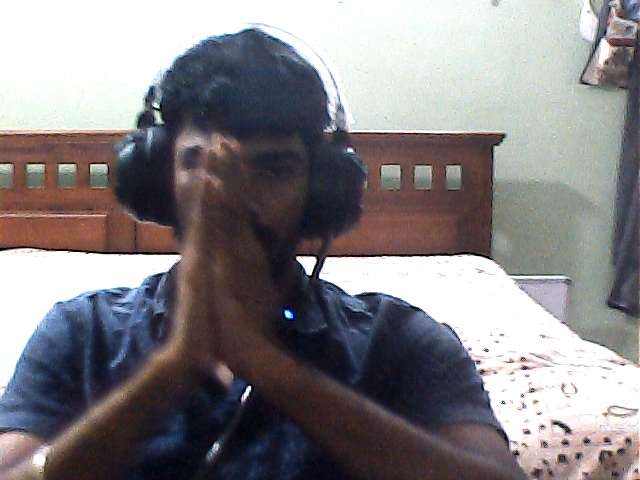Sign: (160, 133, 283, 405)
